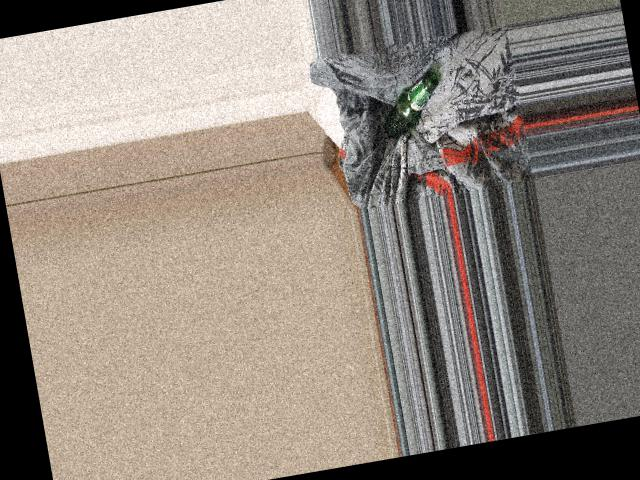beer: (377, 71, 447, 139)
